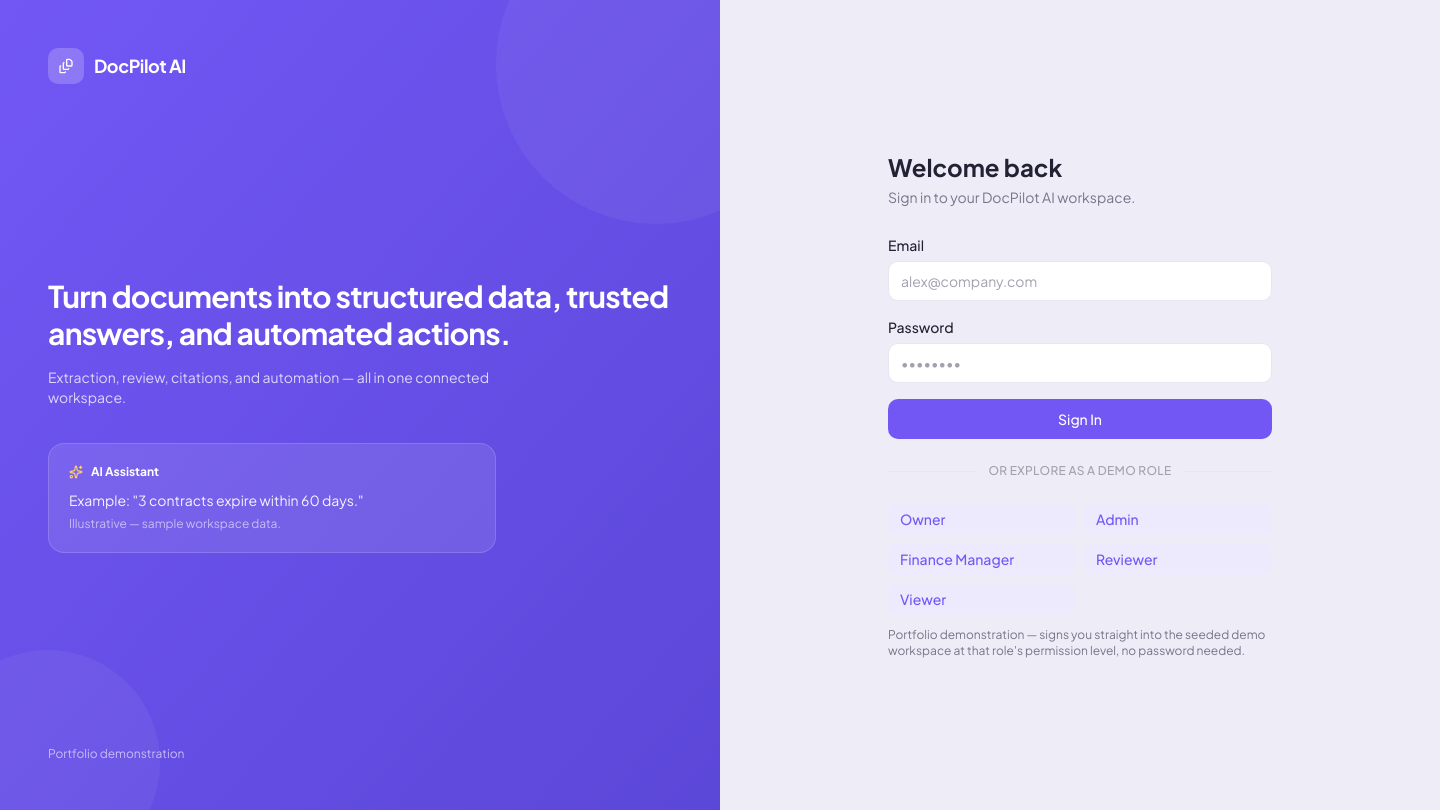
Test: SignInPage — submission › shows a generic error for invalid credentials without leaking whether the account exists
This screenshot has width=1440, height=810.
Type "owner@demo.docpilot.ai" into the field labelled "Email" at (1080, 281), box [888,261,1272,301]
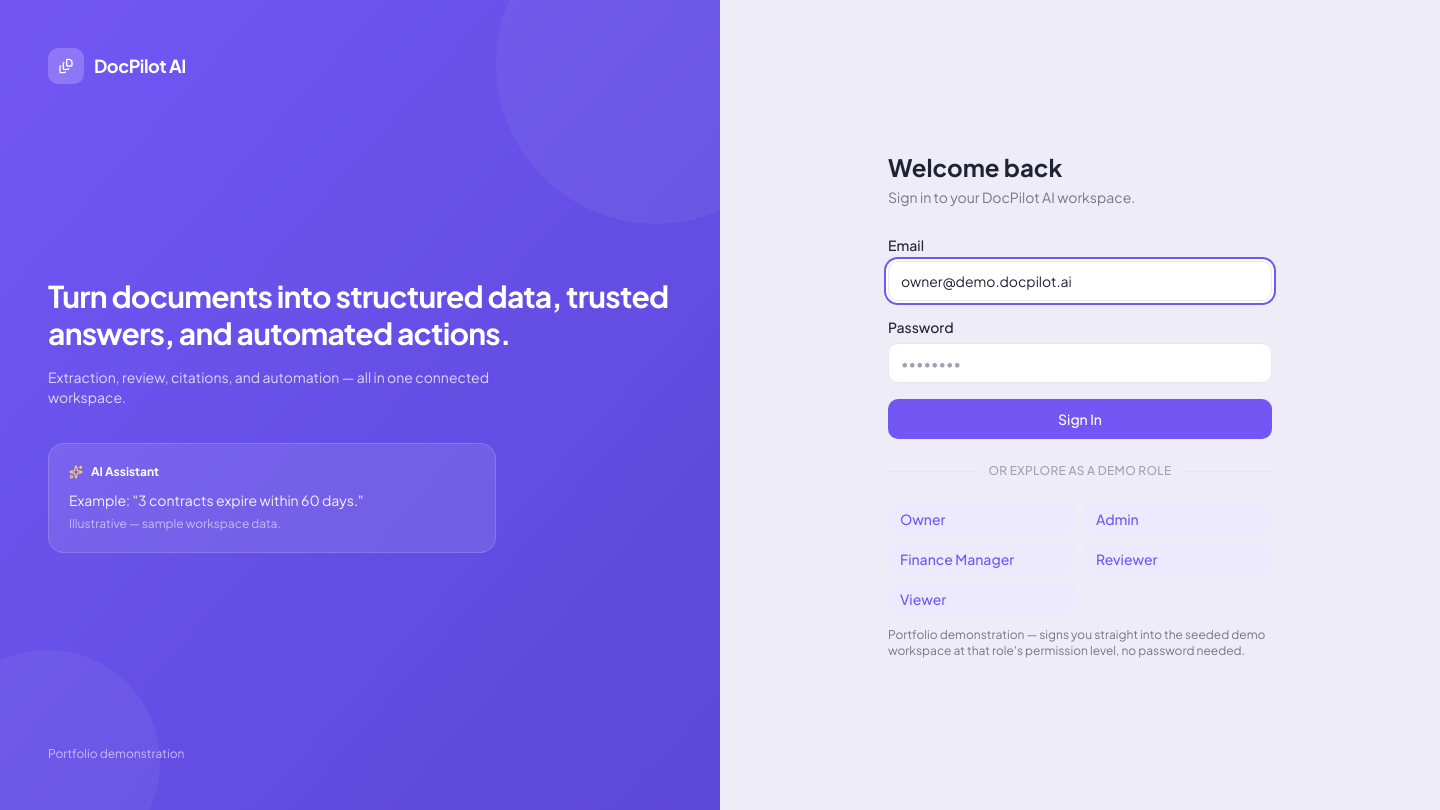
Type "wrong-password" into the password field labelled "Password" at (1080, 363), box [888,343,1272,383]
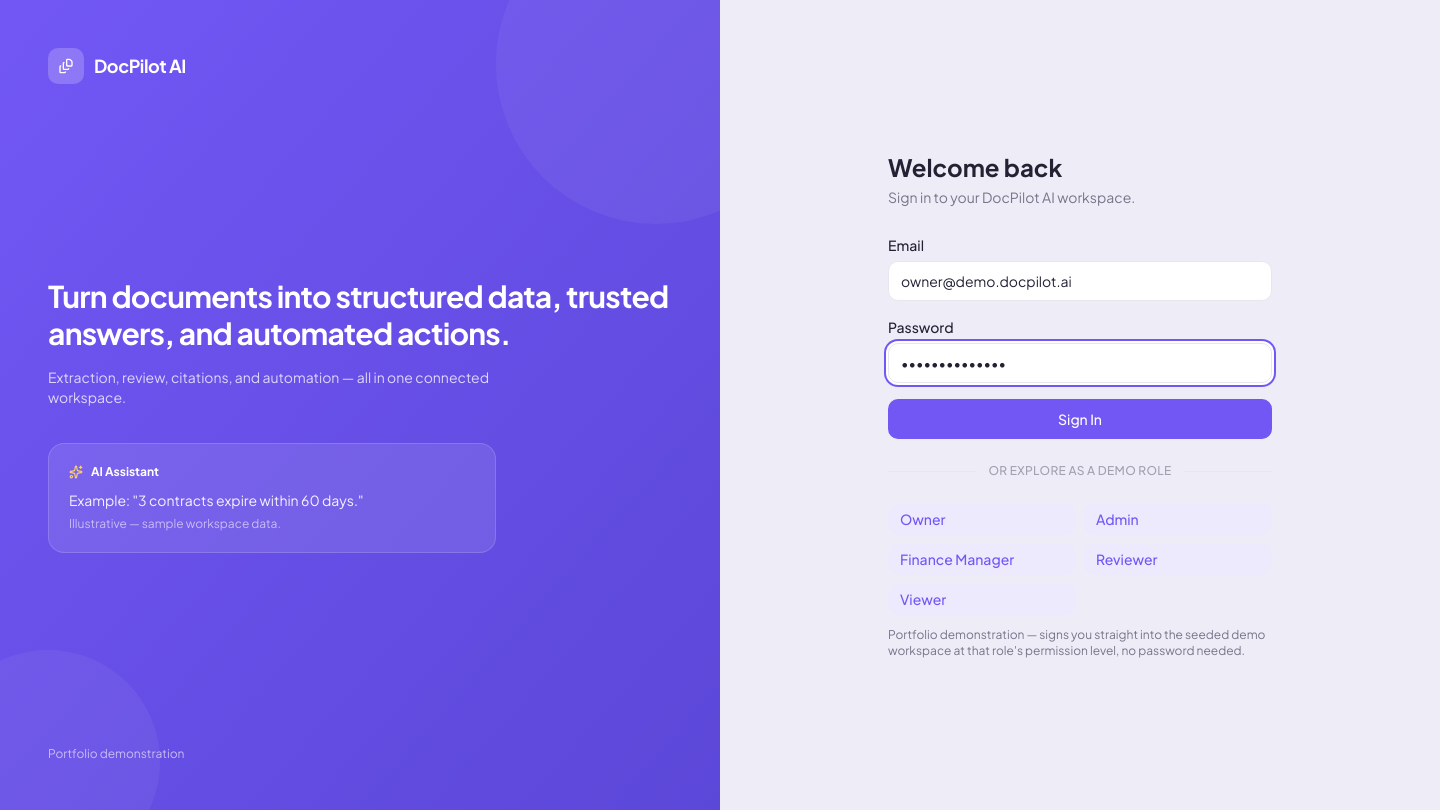
Click the button "Sign In" at (1080, 419), box [888,399,1272,439]
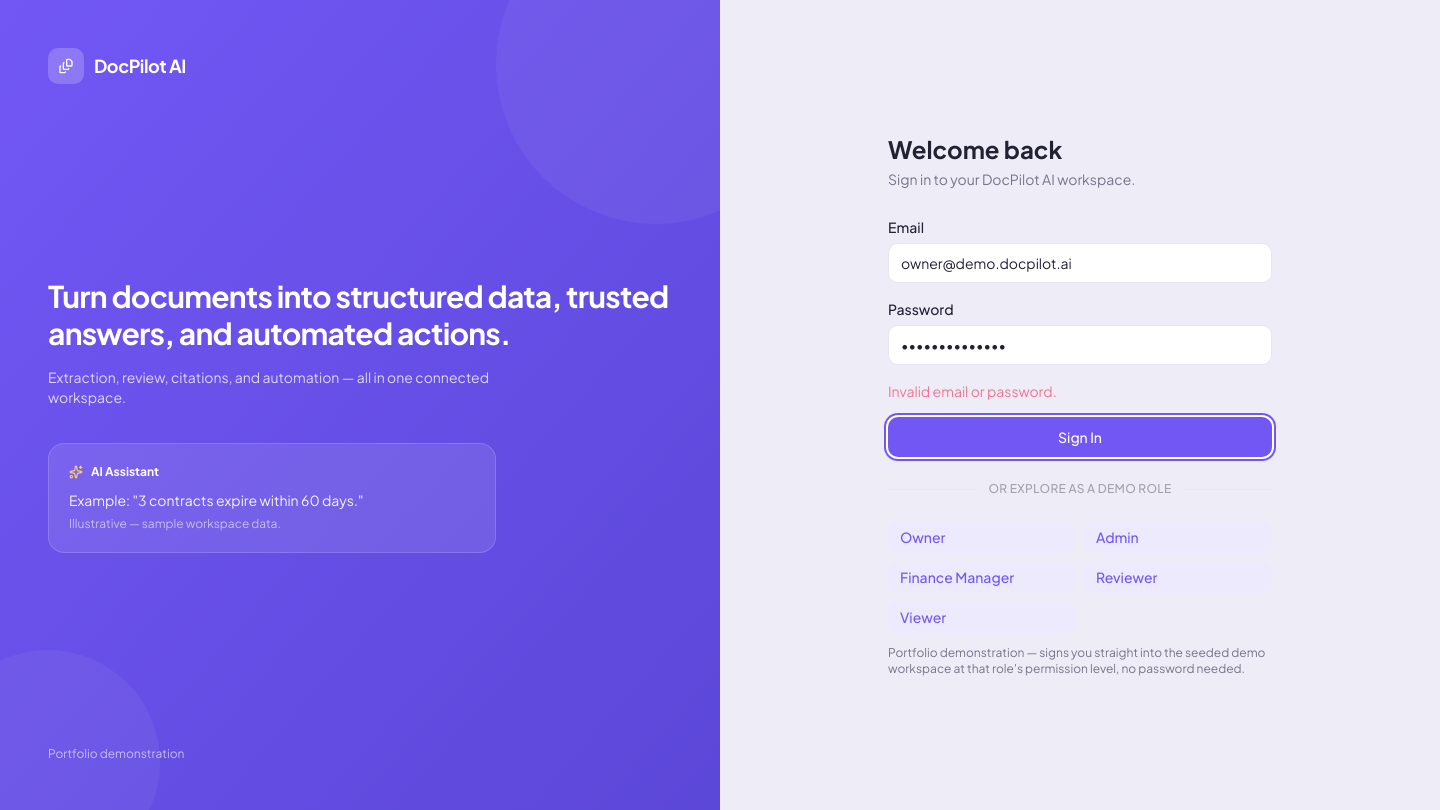
Check: the text "Invalid email or password." is shown, box [888,382,1057,400]
